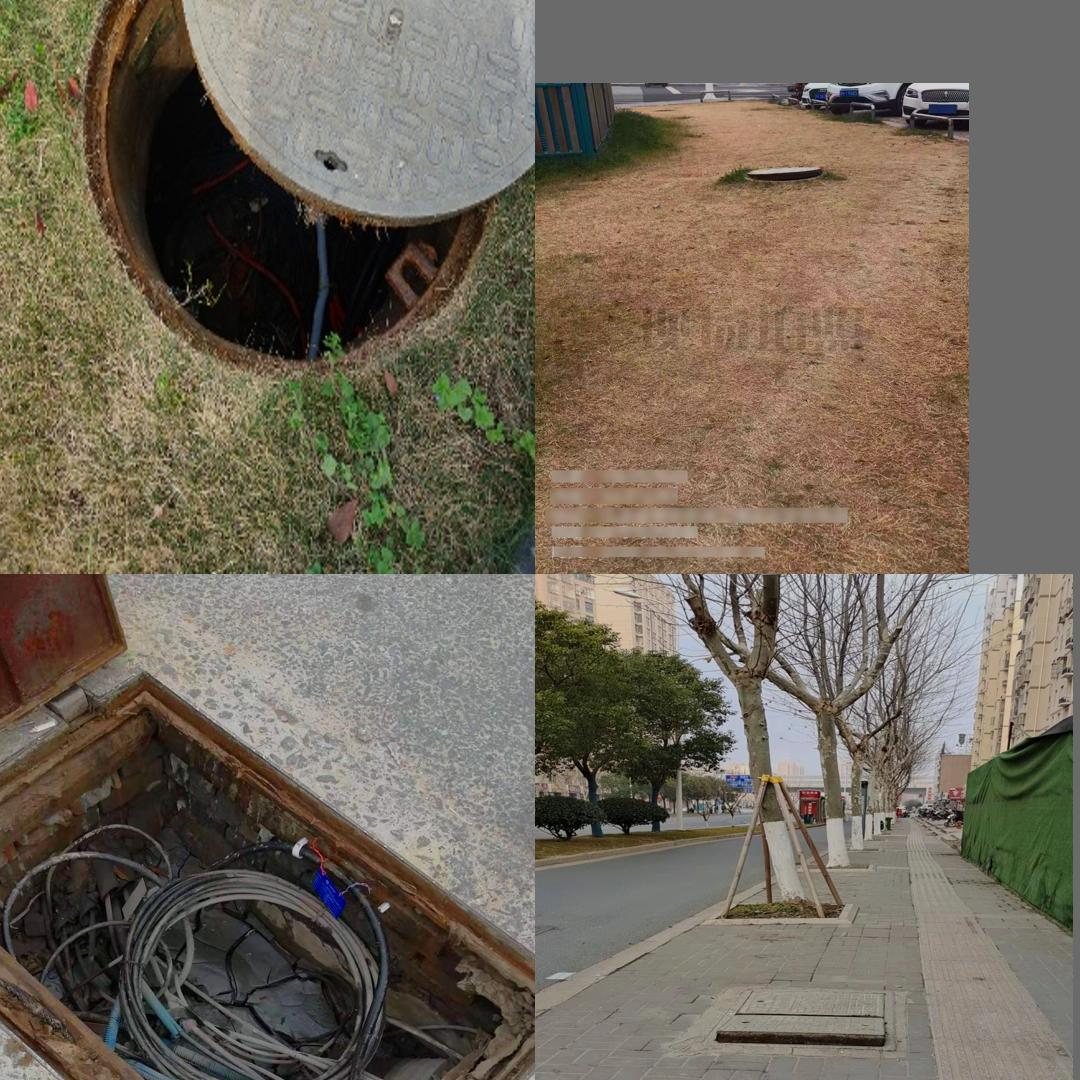uncovered: (0, 578, 535, 1080), (81, 0, 535, 375), (701, 984, 893, 1051), (741, 159, 829, 186)
